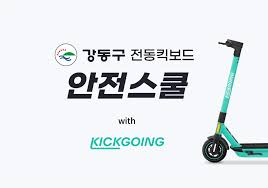kick_handler: (219, 38, 244, 56)
kick_neck: (215, 58, 240, 131)
kick_wheel: (204, 137, 228, 163)
